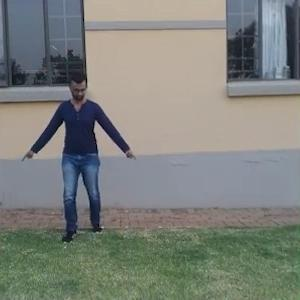land: (0, 65, 130, 252)
